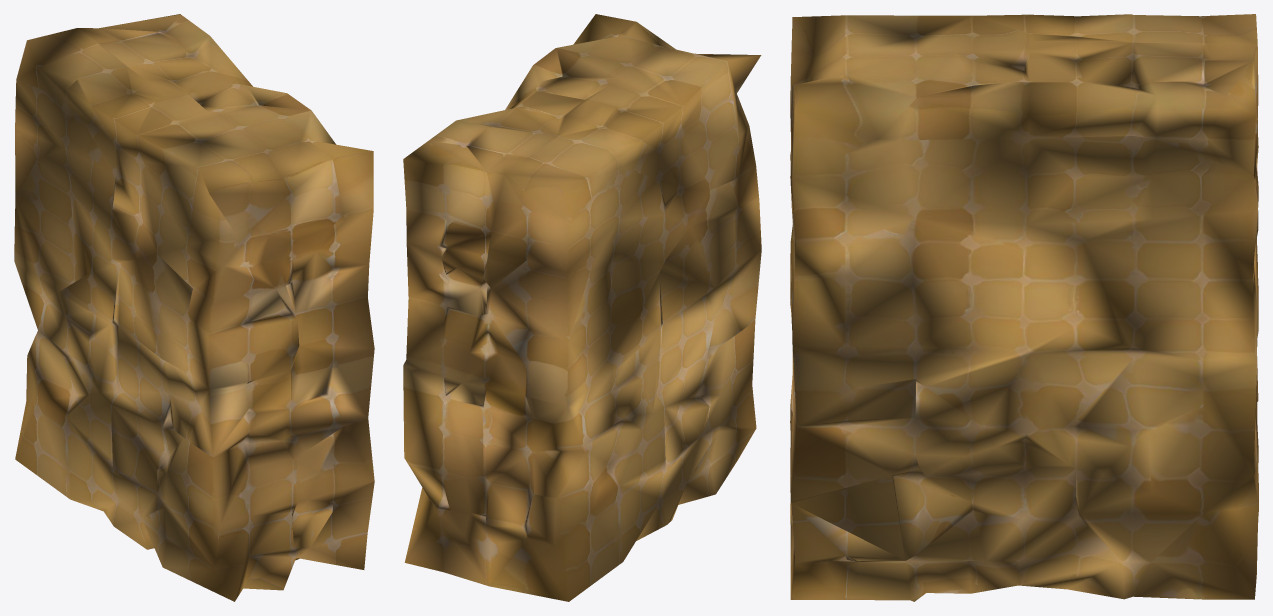
Rendered from stone_path.glb.
The picture shows the model from 3 angles, left to right: view 1: azimuth 30°, elevation 25°; view 2: azimuth 150°, elevation 25°; view 3: azimuth 270°, elevation 25°; orthographic projection. The views are drawn at different scales.
Visible parts, largest first — view 1: tripo_node_45256450-b5ee-49f7-8941-f76241f4e7c6; view 2: tripo_node_45256450-b5ee-49f7-8941-f76241f4e7c6; view 3: tripo_node_45256450-b5ee-49f7-8941-f76241f4e7c6.
Boxes of the visible parts, <box> form: tripo_node_45256450-b5ee-49f7-8941-f76241f4e7c6: <box>14,14,374,601</box>; tripo_node_45256450-b5ee-49f7-8941-f76241f4e7c6: <box>403,14,761,601</box>; tripo_node_45256450-b5ee-49f7-8941-f76241f4e7c6: <box>790,14,1258,601</box>.
Bounding box in the file's own units: 0.4107 × 0.9996 × 0.8399.
Materials: 1 (1 with a texture image).
